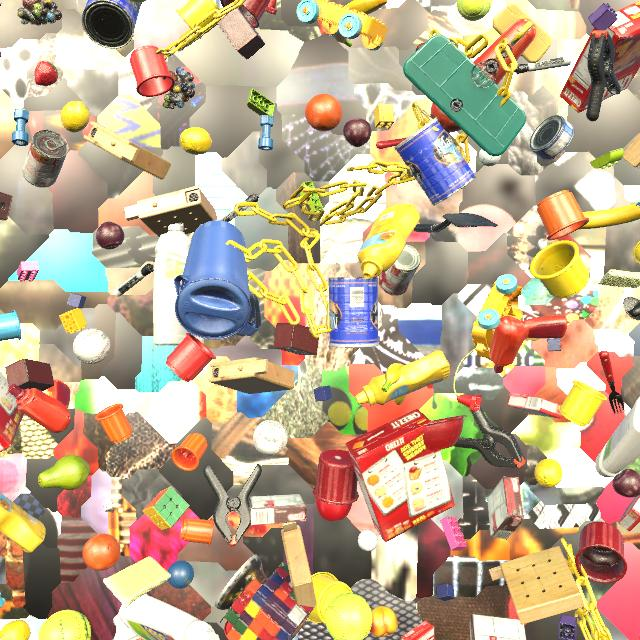ycb_002_master_chef_can: (394, 118, 476, 205), (328, 277, 379, 348), (82, 0, 142, 49)
ycb_003_cracker_box: (345, 409, 455, 542), (560, 1, 640, 113), (0, 372, 24, 452)
ycb_005_tomato_soup_can: (23, 130, 69, 188), (378, 244, 421, 296)
ycb_006_mustard_bottle: (355, 350, 450, 406), (357, 204, 420, 279), (0, 492, 46, 553)
ycb_007_tuna_fish_can: (529, 115, 575, 161)
ycb_008_pudding_box: (487, 476, 524, 540), (249, 494, 307, 525), (469, 614, 527, 640), (639, 634, 640, 636)
ycb_009_gelatin_box: (507, 393, 563, 419), (618, 495, 640, 532), (401, 621, 435, 640)
ycb_011_banana: (333, 0, 388, 47), (580, 203, 640, 229), (381, 363, 408, 405), (585, 616, 609, 640)
ycb_012_strawberry: (35, 61, 58, 86)
ycb_013_apple: (315, 497, 352, 521)
ycb_014_lemon: (179, 127, 212, 155), (61, 101, 90, 132), (534, 459, 563, 488), (0, 620, 31, 640)
ycb_015_peach: (370, 606, 398, 637)
ycb_016_pear: (38, 455, 90, 490), (236, 334, 245, 336)
ycb_017_orange: (82, 533, 121, 571), (305, 94, 342, 132)
ycb_018_plum: (612, 469, 640, 497), (343, 119, 371, 147), (96, 222, 124, 249)
